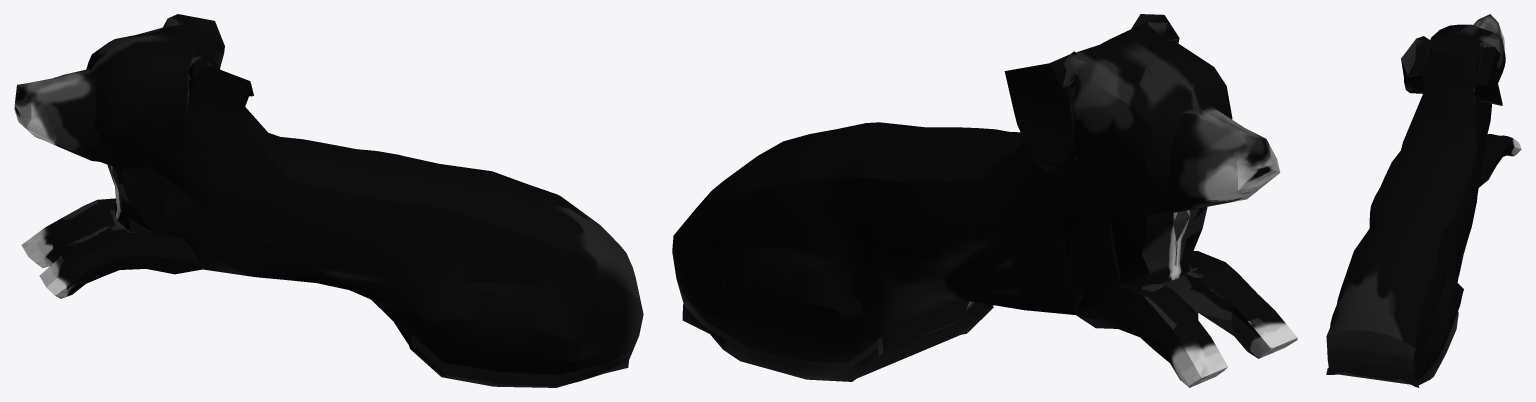
The model's file is ellienolabel2.glb.
The picture shows the model from 3 angles, left to right: view 1: azimuth 30°, elevation 25°; view 2: azimuth 150°, elevation 25°; view 3: azimuth 270°, elevation 25°; orthographic projection. The views are drawn at different scales.
Parts seen in each view (by area): view 1: Plane; view 2: Plane; view 3: Plane.
Boxes of the visible parts, bbox=[...] form: Plane: bbox=[14, 14, 643, 387]; Plane: bbox=[672, 14, 1297, 387]; Plane: bbox=[1326, 14, 1521, 387].
Size of the model in its own units: 1.1 by 0.7079 by 0.5262.
Materials: 1 (1 with a texture image).
